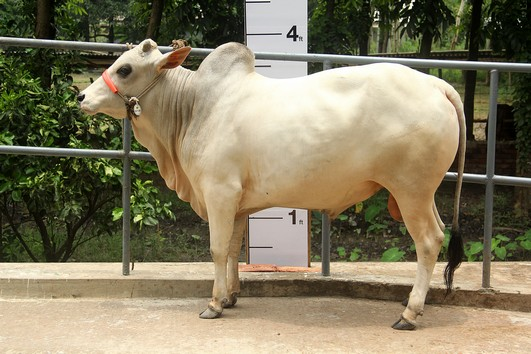cow: (72, 30, 474, 334)
